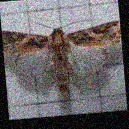Spodoptera litura: (4, 19, 123, 93)
